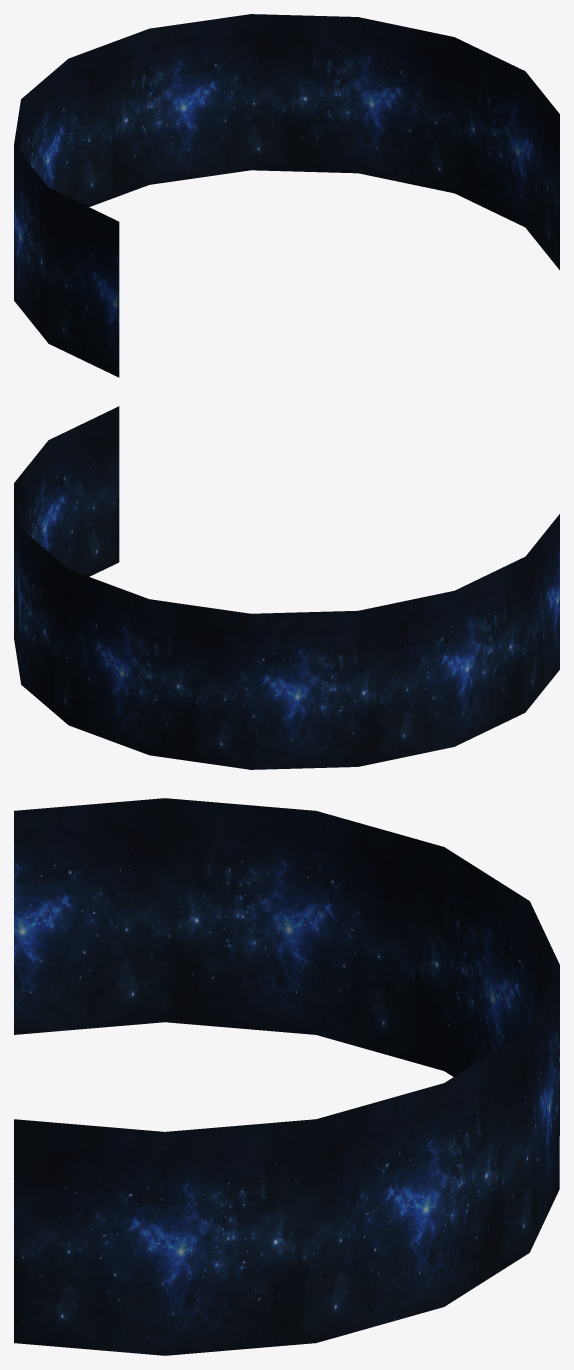
Rendered from ts_zjmtk002.FBX.
3 renders of one model, top to bottom at view 1: azimuth 30°, elevation 25°; view 2: azimuth 150°, elevation 25°; view 3: azimuth 270°, elevation 25°, orthographic. The views are drawn at different scales.
Parts seen in each view (by area): view 1: ts_zjmtk002; view 2: ts_zjmtk002; view 3: ts_zjmtk002.
Part boxes in pixels (bbox=[...]): ts_zjmtk002: bbox=[14, 14, 559, 377]; ts_zjmtk002: bbox=[14, 406, 559, 769]; ts_zjmtk002: bbox=[14, 798, 559, 1355].
Bounding box in the file's own units: 48.21 × 15.09 × 33.33.
